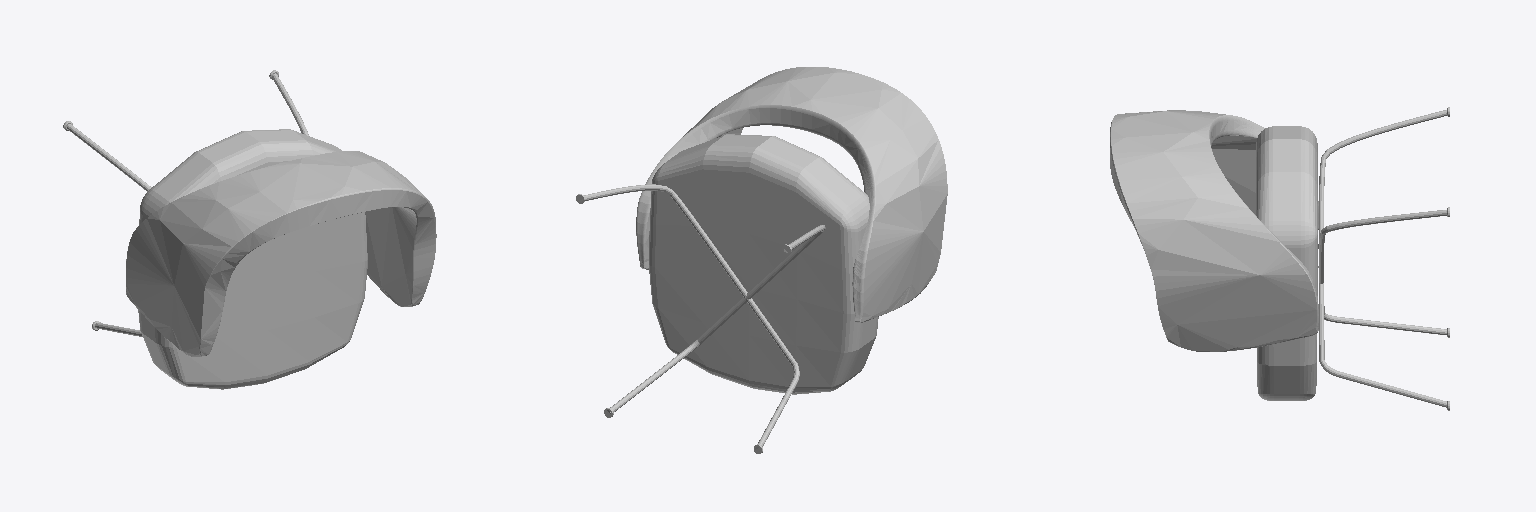
The model's file is chair_0590_Clustering_50pct.obj.
3 views of the same model, side by side, from view 1: azimuth 30°, elevation 25°; view 2: azimuth 150°, elevation 25°; view 3: azimuth 270°, elevation 25° (orthographic).
Size of the model in its own units: 0.8045 by 0.8038 by 1.